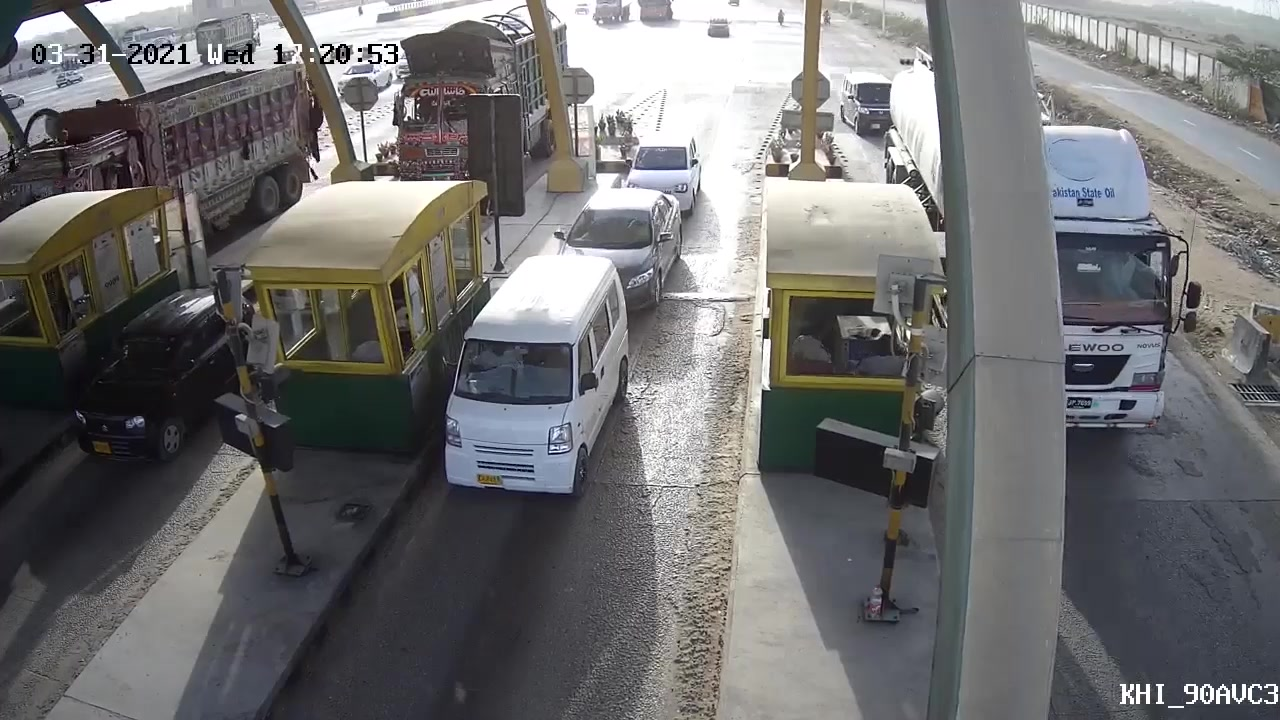F6: (433, 255, 629, 524)
